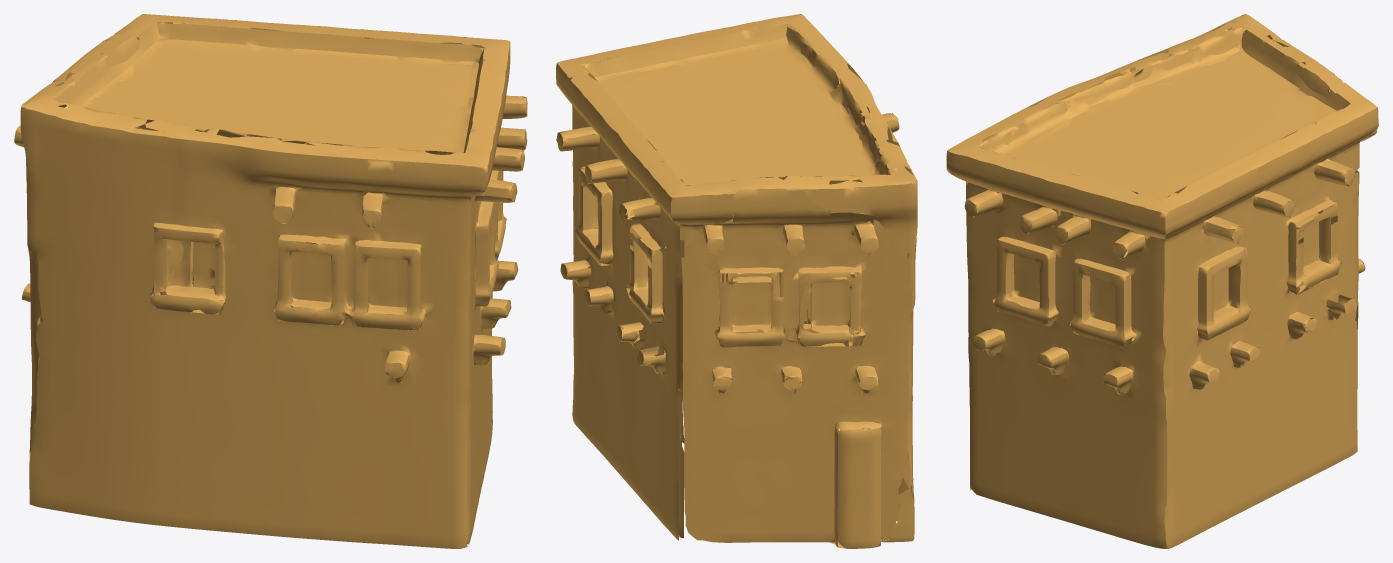
File: buildings_6.fbx
3 views of the same model, side by side, from view 1: azimuth 30°, elevation 25°; view 2: azimuth 150°, elevation 25°; view 3: azimuth 270°, elevation 25° (orthographic). The views are drawn at different scales.
Visible parts, largest first — view 1: Retopo_image_Stylized_architectural_model_of_a_building_bb22; view 2: Retopo_image_Stylized_architectural_model_of_a_building_bb22 (×2); view 3: Retopo_image_Stylized_architectural_model_of_a_building_bb22.
Part boxes in pixels (<box>): Retopo_image_Stylized_architectural_model_of_a_building_bb22: <box>14,14,527,548</box>; Retopo_image_Stylized_architectural_model_of_a_building_bb22 (×2): <box>556,14,917,548</box>; Retopo_image_Stylized_architectural_model_of_a_building_bb22: <box>946,14,1378,548</box>.
Size of the model in its own units: 2463 by 2124 by 2344.
